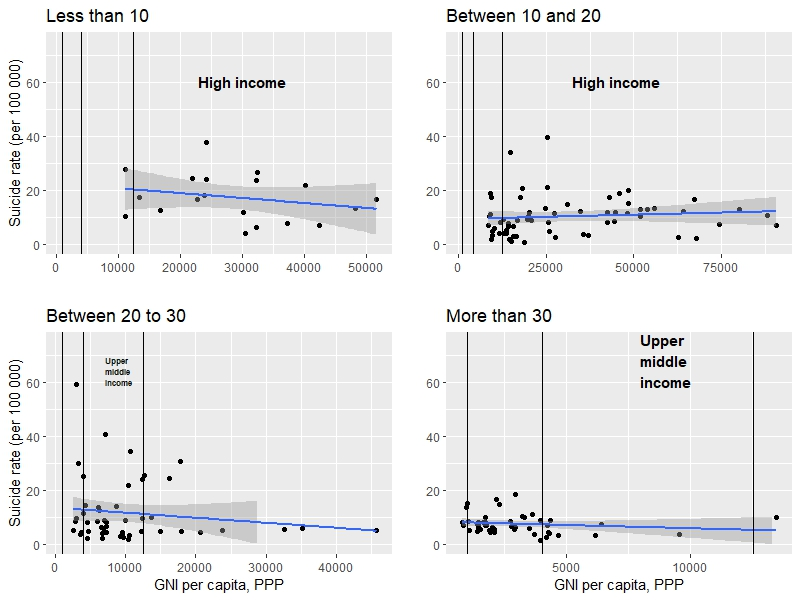

This screenshot's page, from the dashboard's own definition file:
{"tool":"powerbi","page":{"name":"Page 2","canvas":[1280,720],"ordinal":1},"visuals":[{"type":"scatterChart","title":"Birth rate less than 10 (per 1000)","fields":{"X":["suicide_gni_birth.avg_gni"],"Y":["suicide_gni_birth.avg_birth_rate"]},"box":[9.7,0,640,359.9],"z":0},{"type":"scatterChart","title":"Birth rate between 10 and 20 (per 1000)","fields":{"X":["suicide_gni_birth.avg_gni"],"Y":["suicide_gni_birth.avg_birth_rate"]},"box":[640,0,640,359.9],"z":1},{"type":"scatterChart","title":"Birth rate less between 20 and 30 (per 1000)","fields":{"X":["suicide_gni_birth.avg_gni"],"Y":["suicide_gni_birth.avg_birth_rate"]},"box":[0,359.9,640,359.9],"z":2},{"type":"scatterChart","title":"Birth rate more than 40 (per 1000)","fields":{"X":["suicide_gni_birth.avg_gni"],"Y":["suicide_gni_birth.avg_birth_rate"]},"box":[640,359.9,640,359.9],"z":3}]}

Visuals, with their boxes on the page's 1280x720 design canvas (x1, y1, x2, y2). These are canvas units, not pixel positions in the 800x600 screenshot, which may show the page scaled, cropped or inside an application window:
"Birth rate less than 10 (per 1000)" scatterChart: 10,0,650,360
"Birth rate between 10 and 20 (per 1000)" scatterChart: 640,0,1280,360
"Birth rate less between 20 and 30 (per 1000)" scatterChart: 0,360,640,720
"Birth rate more than 40 (per 1000)" scatterChart: 640,360,1280,720
